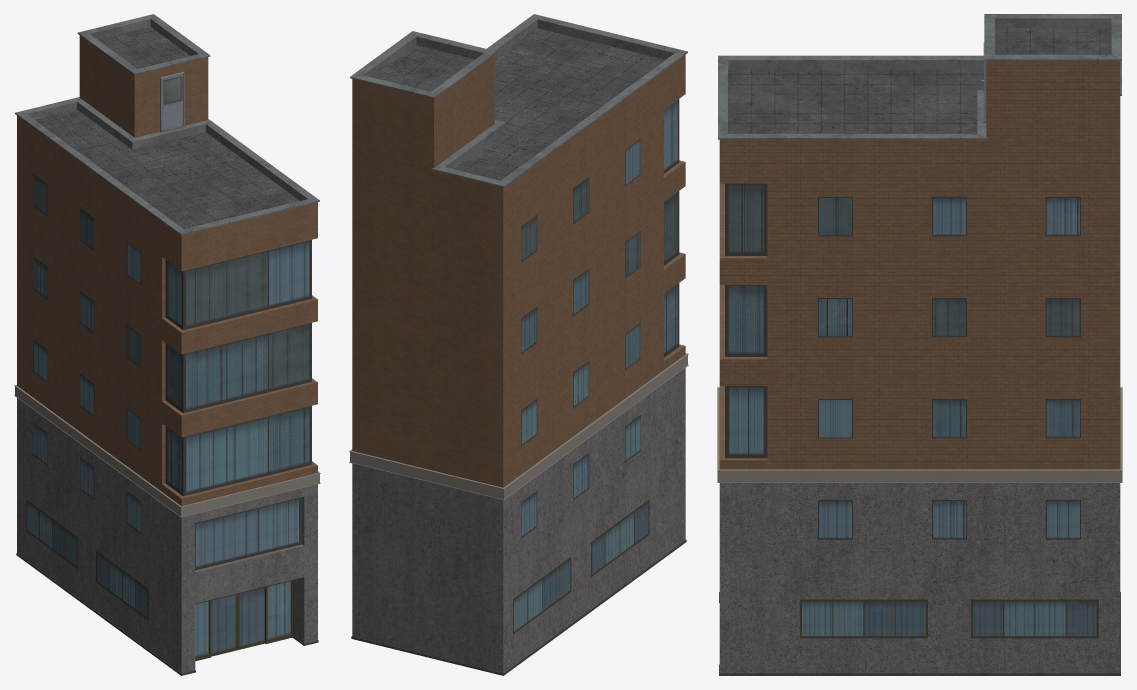
The model's file is jctBld12_6C_low.fbx.
The picture shows the model from 3 angles, left to right: view 1: azimuth 30°, elevation 25°; view 2: azimuth 150°, elevation 25°; view 3: azimuth 270°, elevation 25°; orthographic projection. The views are drawn at different scales.
Parts seen in each view (by area): view 1: jctBld12_6C_low; view 2: jctBld12_6C_low; view 3: jctBld12_6C_low.
Boxes of the visible parts, left/top/right/bottom form: jctBld12_6C_low: left=14, top=14, right=320, bottom=675; jctBld12_6C_low: left=349, top=14, right=688, bottom=675; jctBld12_6C_low: left=717, top=14, right=1122, bottom=675.
Bounding box in the file's own units: 564 × 1955 × 1164.
